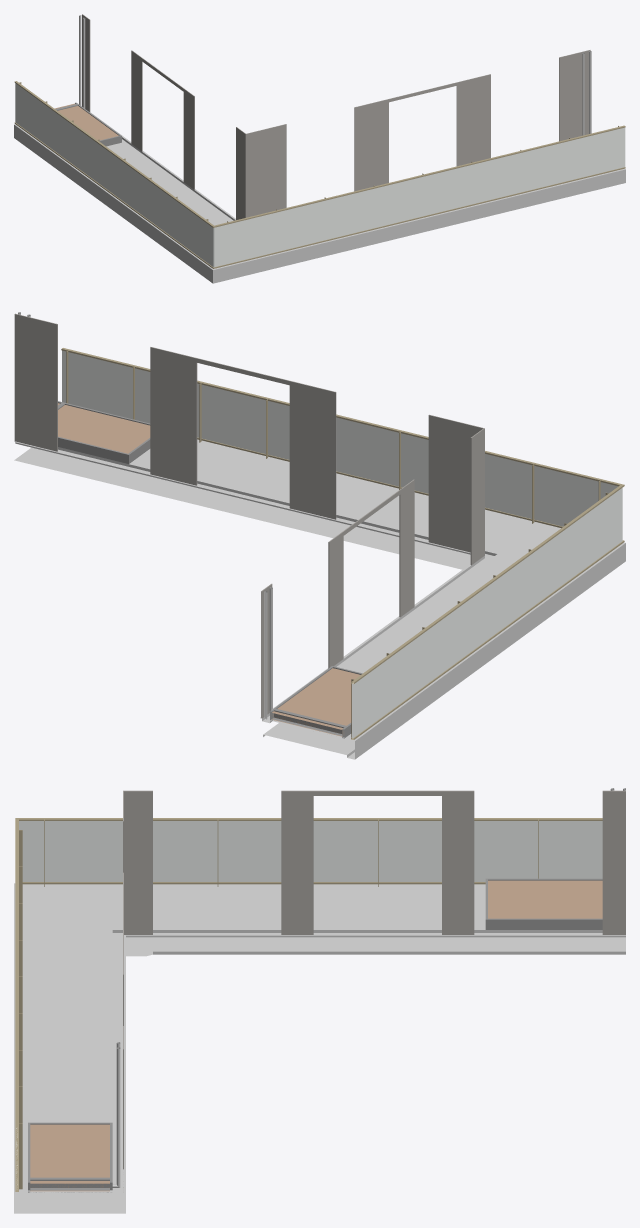
Rendered from balcony.glb.
3 renders of one model, top to bottom at view 1: azimuth 30°, elevation 25°; view 2: azimuth 150°, elevation 25°; view 3: azimuth 270°, elevation 25°, orthographic. The views are drawn at different scales.
Visible parts, largest first — view 1: balcony_1_mesh_992_ROOT__34_Reling_Reling-x__o_GLAS_Glas_Pan, balcony_0_mesh_988_ROOT__34_Reling_Reling-x__o_GLAS_Glas_Pan, balcony_0_mesh_692_ROOT__f2-_Met_cement_gebonden_producten_(, balcony_1_mesh_791_ROOT__21_Wand_Wand-x__Gevelbekleding_(ver, balcony_1_mesh_692_ROOT__f2-_Met_cement_gebonden_producten_(, balcony_1_mesh_789_ROOT__21_Wand_Wand-x__Gevelbekleding_(ver, balcony_0_mesh_992_ROOT__34_Reling_Reling-x__o_GLAS_Glas_Pan, balcony_1_mesh_793_ROOT__21_Wand_Wand-x__Gevelbekleding_(ver, balcony_0_mesh_902_ROOT__21_Wand_Wand-x__Gevelbekleding_(ver, balcony_1_mesh_986_ROOT__34_Reling_Reling-x__h3_Staal_legeri, balcony_0_mesh_898_ROOT__21_Wand_Wand-x__Gevelbekleding_(ver, balcony_0_mesh_168_ROOT__p1_Natuurlijke_aggregaten,_natuurli (+4 smaller); view 2: balcony_1_mesh_692_ROOT__f2-_Met_cement_gebonden_producten_(, balcony_1_mesh_992_ROOT__34_Reling_Reling-x__o_GLAS_Glas_Pan, balcony_0_mesh_988_ROOT__34_Reling_Reling-x__o_GLAS_Glas_Pan, balcony_0_mesh_692_ROOT__f2-_Met_cement_gebonden_producten_(, balcony_1_mesh_791_ROOT__21_Wand_Wand-x__Gevelbekleding_(ver, balcony_1_mesh_793_ROOT__21_Wand_Wand-x__Gevelbekleding_(ver, balcony_1_mesh_789_ROOT__21_Wand_Wand-x__Gevelbekleding_(ver, balcony_0_mesh_902_ROOT__21_Wand_Wand-x__Gevelbekleding_(ver, balcony_0_mesh_992_ROOT__34_Reling_Reling-x__o_GLAS_Glas_Pan, balcony_1_mesh_250_ROOT__p1_Natuurlijke_aggregaten,_natuurli, balcony_0_mesh_168_ROOT__p1_Natuurlijke_aggregaten,_natuurli, balcony_0_mesh_898_ROOT__21_Wand_Wand-x__Gevelbekleding_(ver (+5 smaller); view 3: balcony_0_mesh_692_ROOT__f2-_Met_cement_gebonden_producten_(, balcony_0_mesh_988_ROOT__34_Reling_Reling-x__o_GLAS_Glas_Pan, balcony_1_mesh_692_ROOT__f2-_Met_cement_gebonden_producten_(, balcony_0_mesh_902_ROOT__21_Wand_Wand-x__Gevelbekleding_(ver, balcony_0_mesh_168_ROOT__p1_Natuurlijke_aggregaten,_natuurli, balcony_1_mesh_250_ROOT__p1_Natuurlijke_aggregaten,_natuurli, balcony_0_mesh_898_ROOT__21_Wand_Wand-x__Gevelbekleding_(ver, balcony_0_mesh_900_ROOT__21_Wand_Wand-x__Gevelbekleding_(ver, balcony_0_mesh_991_ROOT__34_Reling_Reling-x__h3_Staal_legeri, balcony_0_mesh_935_ROOT__n_KUNSTSTOFFEN,_RUBBERS_Kunststof_G, balcony_0_mesh_993_ROOT__34_Reling_Reling-x__h3_Staal_legeri, balcony_1_mesh_986_ROOT__34_Reling_Reling-x__h3_Staal_legeri (+2 smaller).
Boxes of the visible parts, x1,y1,x2,y2 form: balcony_1_mesh_992_ROOT__34_Reling_Reling-x__o_GLAS_Glas_Pan: (282,127,625,250); balcony_0_mesh_988_ROOT__34_Reling_Reling-x__o_GLAS_Glas_Pan: (15,83,214,267); balcony_0_mesh_692_ROOT__f2-_Met_cement_gebonden_producten_(: (14,112,282,283); balcony_1_mesh_791_ROOT__21_Wand_Wand-x__Gevelbekleding_(ver: (354,74,490,191); balcony_1_mesh_692_ROOT__f2-_Met_cement_gebonden_producten_(: (282,168,625,266); balcony_1_mesh_789_ROOT__21_Wand_Wand-x__Gevelbekleding_(ver: (247,124,286,217); balcony_0_mesh_992_ROOT__34_Reling_Reling-x__o_GLAS_Glas_Pan: (213,211,281,267); balcony_1_mesh_793_ROOT__21_Wand_Wand-x__Gevelbekleding_(ver: (559,50,590,141); balcony_0_mesh_902_ROOT__21_Wand_Wand-x__Gevelbekleding_(ver: (131,50,194,189); balcony_1_mesh_986_ROOT__34_Reling_Reling-x__h3_Staal_legeri: (281,125,625,210); balcony_0_mesh_898_ROOT__21_Wand_Wand-x__Gevelbekleding_(ver: (236,127,245,219); balcony_0_mesh_168_ROOT__p1_Natuurlijke_aggregaten,_natuurli: (58,106,118,140); balcony_1_mesh_692_ROOT__f2-_Met_cement_gebonden_producten_(: (14,439,529,569); balcony_1_mesh_992_ROOT__34_Reling_Reling-x__o_GLAS_Glas_Pan: (62,350,529,518); balcony_0_mesh_988_ROOT__34_Reling_Reling-x__o_GLAS_Glas_Pan: (352,488,622,738); balcony_0_mesh_692_ROOT__f2-_Met_cement_gebonden_producten_(: (260,520,625,759); balcony_1_mesh_791_ROOT__21_Wand_Wand-x__Gevelbekleding_(ver: (150,347,336,519); balcony_1_mesh_793_ROOT__21_Wand_Wand-x__Gevelbekleding_(ver: (14,313,57,451); balcony_1_mesh_789_ROOT__21_Wand_Wand-x__Gevelbekleding_(ver: (428,414,481,552); balcony_0_mesh_902_ROOT__21_Wand_Wand-x__Gevelbekleding_(ver: (328,479,414,668); balcony_0_mesh_992_ROOT__34_Reling_Reling-x__o_GLAS_Glas_Pan: (529,464,617,526); balcony_1_mesh_250_ROOT__p1_Natuurlijke_aggregaten,_natuurli: (58,405,150,453); balcony_0_mesh_168_ROOT__p1_Natuurlijke_aggregaten,_natuurli: (277,668,360,725); balcony_0_mesh_898_ROOT__21_Wand_Wand-x__Gevelbekleding_(ver: (470,428,484,565); balcony_0_mesh_692_ROOT__f2-_Met_cement_gebonden_producten_(: (14,883,625,956); balcony_0_mesh_988_ROOT__34_Reling_Reling-x__o_GLAS_Glas_Pan: (19,821,602,881); balcony_1_mesh_692_ROOT__f2-_Met_cement_gebonden_producten_(: (14,935,125,1213); balcony_0_mesh_902_ROOT__21_Wand_Wand-x__Gevelbekleding_(ver: (281,790,474,934); balcony_0_mesh_168_ROOT__p1_Natuurlijke_aggregaten,_natuurli: (488,880,602,918); balcony_1_mesh_250_ROOT__p1_Natuurlijke_aggregaten,_natuurli: (30,1124,109,1177); balcony_0_mesh_898_ROOT__21_Wand_Wand-x__Gevelbekleding_(ver: (124,790,152,934); balcony_0_mesh_900_ROOT__21_Wand_Wand-x__Gevelbekleding_(ver: (602,790,625,934); balcony_0_mesh_991_ROOT__34_Reling_Reling-x__h3_Staal_legeri: (16,818,602,820); balcony_0_mesh_935_ROOT__n_KUNSTSTOFFEN,_RUBBERS_Kunststof_G: (488,918,602,929); balcony_0_mesh_993_ROOT__34_Reling_Reling-x__h3_Staal_legeri: (22,882,485,884); balcony_1_mesh_986_ROOT__34_Reling_Reling-x__h3_Staal_legeri: (15,870,18,1128).
Bounding box in the file's own units: 12.12 × 3 × 10.12.
